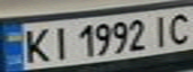1: (72, 20, 96, 57)
2: (127, 16, 151, 52)
9: (90, 20, 115, 56), (109, 18, 133, 55)
C: (163, 9, 193, 45)
I: (45, 24, 72, 61), (148, 11, 175, 48)
K: (18, 25, 54, 64)
